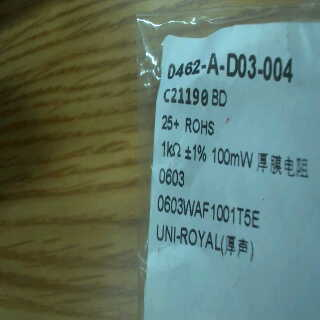1kR: (154, 138, 183, 161)
